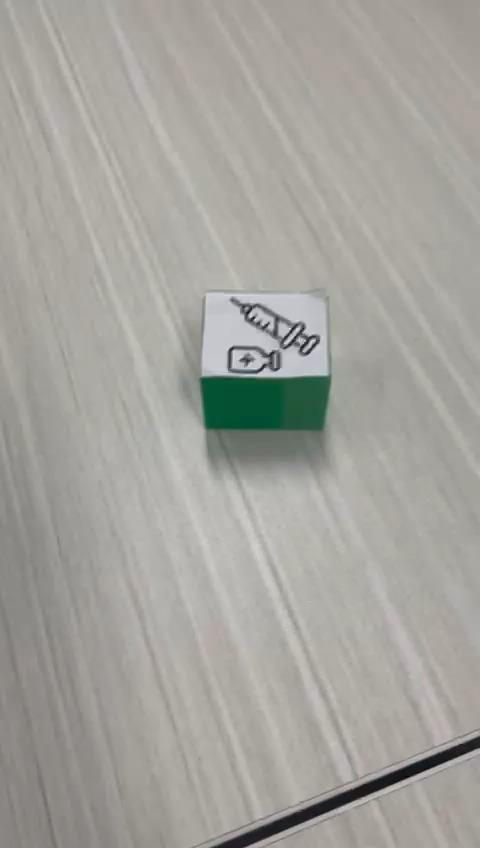antiseptic cream: (198, 286, 332, 431)
